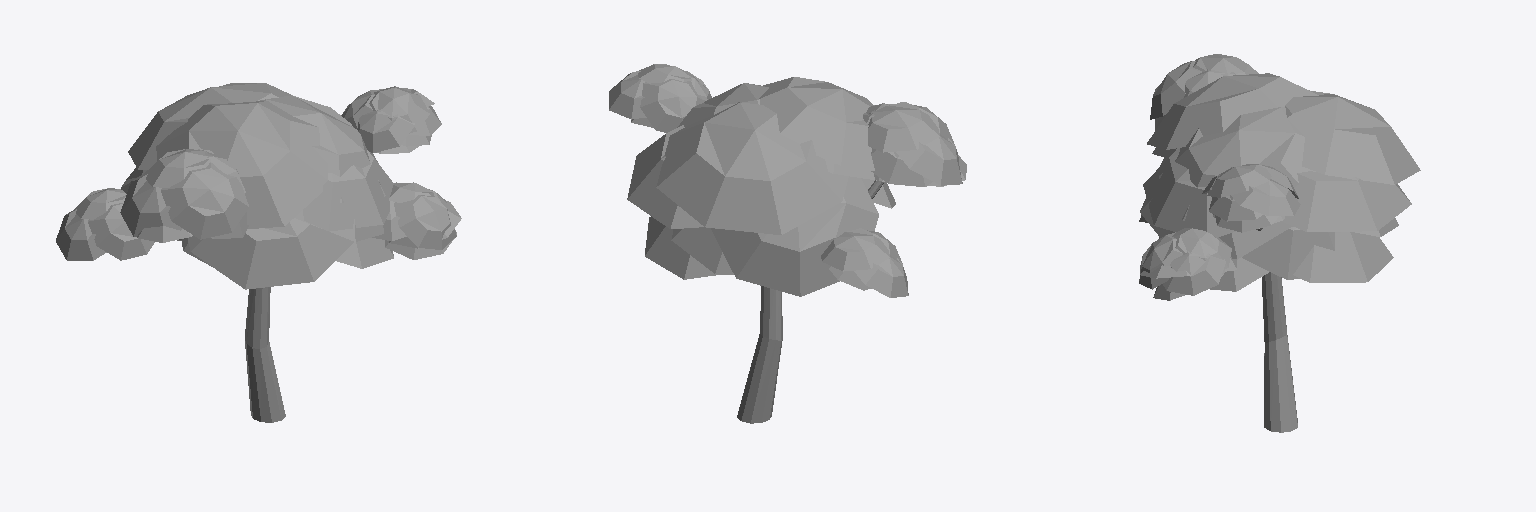
Rendered from Tree_5.obj.
3 renders of one model, left to right at view 1: azimuth 30°, elevation 25°; view 2: azimuth 150°, elevation 25°; view 3: azimuth 270°, elevation 25°, orthographic.
Parts seen in each view (by area): view 1: Tree_5_Cylinder.007; view 2: Tree_5_Cylinder.007; view 3: Tree_5_Cylinder.007.
Part boxes in pixels (left/top/right/bottom): Tree_5_Cylinder.007: left=56, top=83, right=461, bottom=422; Tree_5_Cylinder.007: left=609, top=64, right=966, bottom=423; Tree_5_Cylinder.007: left=1139, top=54, right=1420, bottom=432.
Bounding box in the file's own units: 6.74 × 6.36 × 4.98.